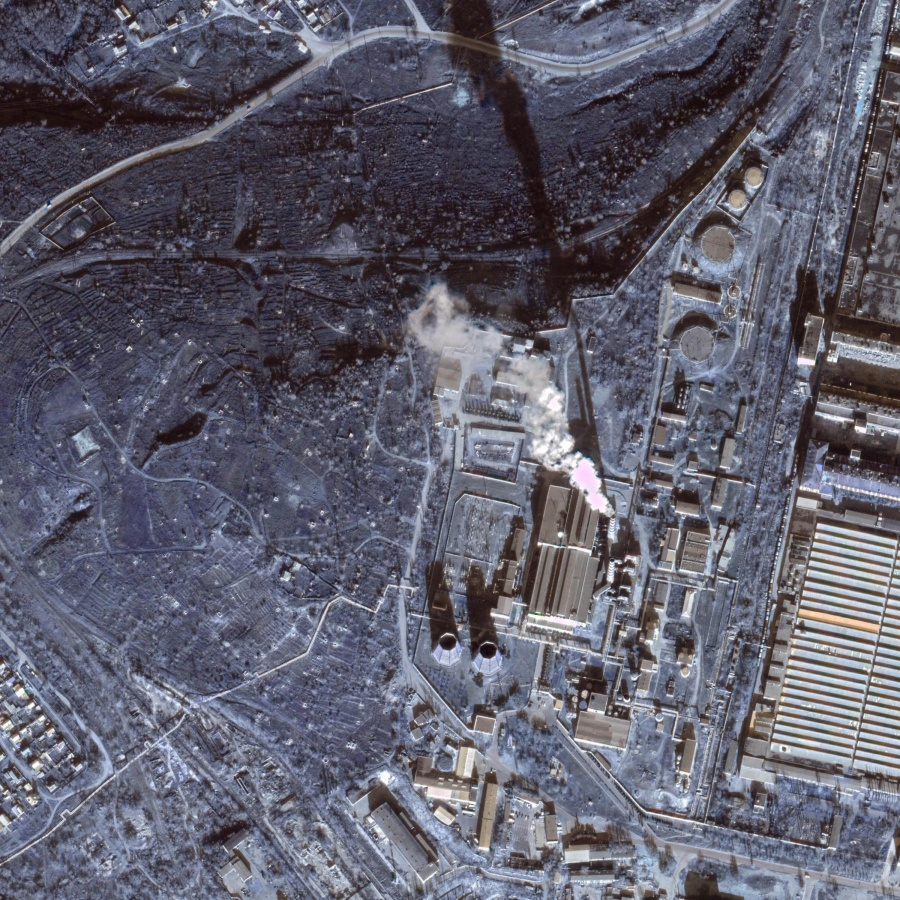PowerPlant: (419, 426, 642, 687)
